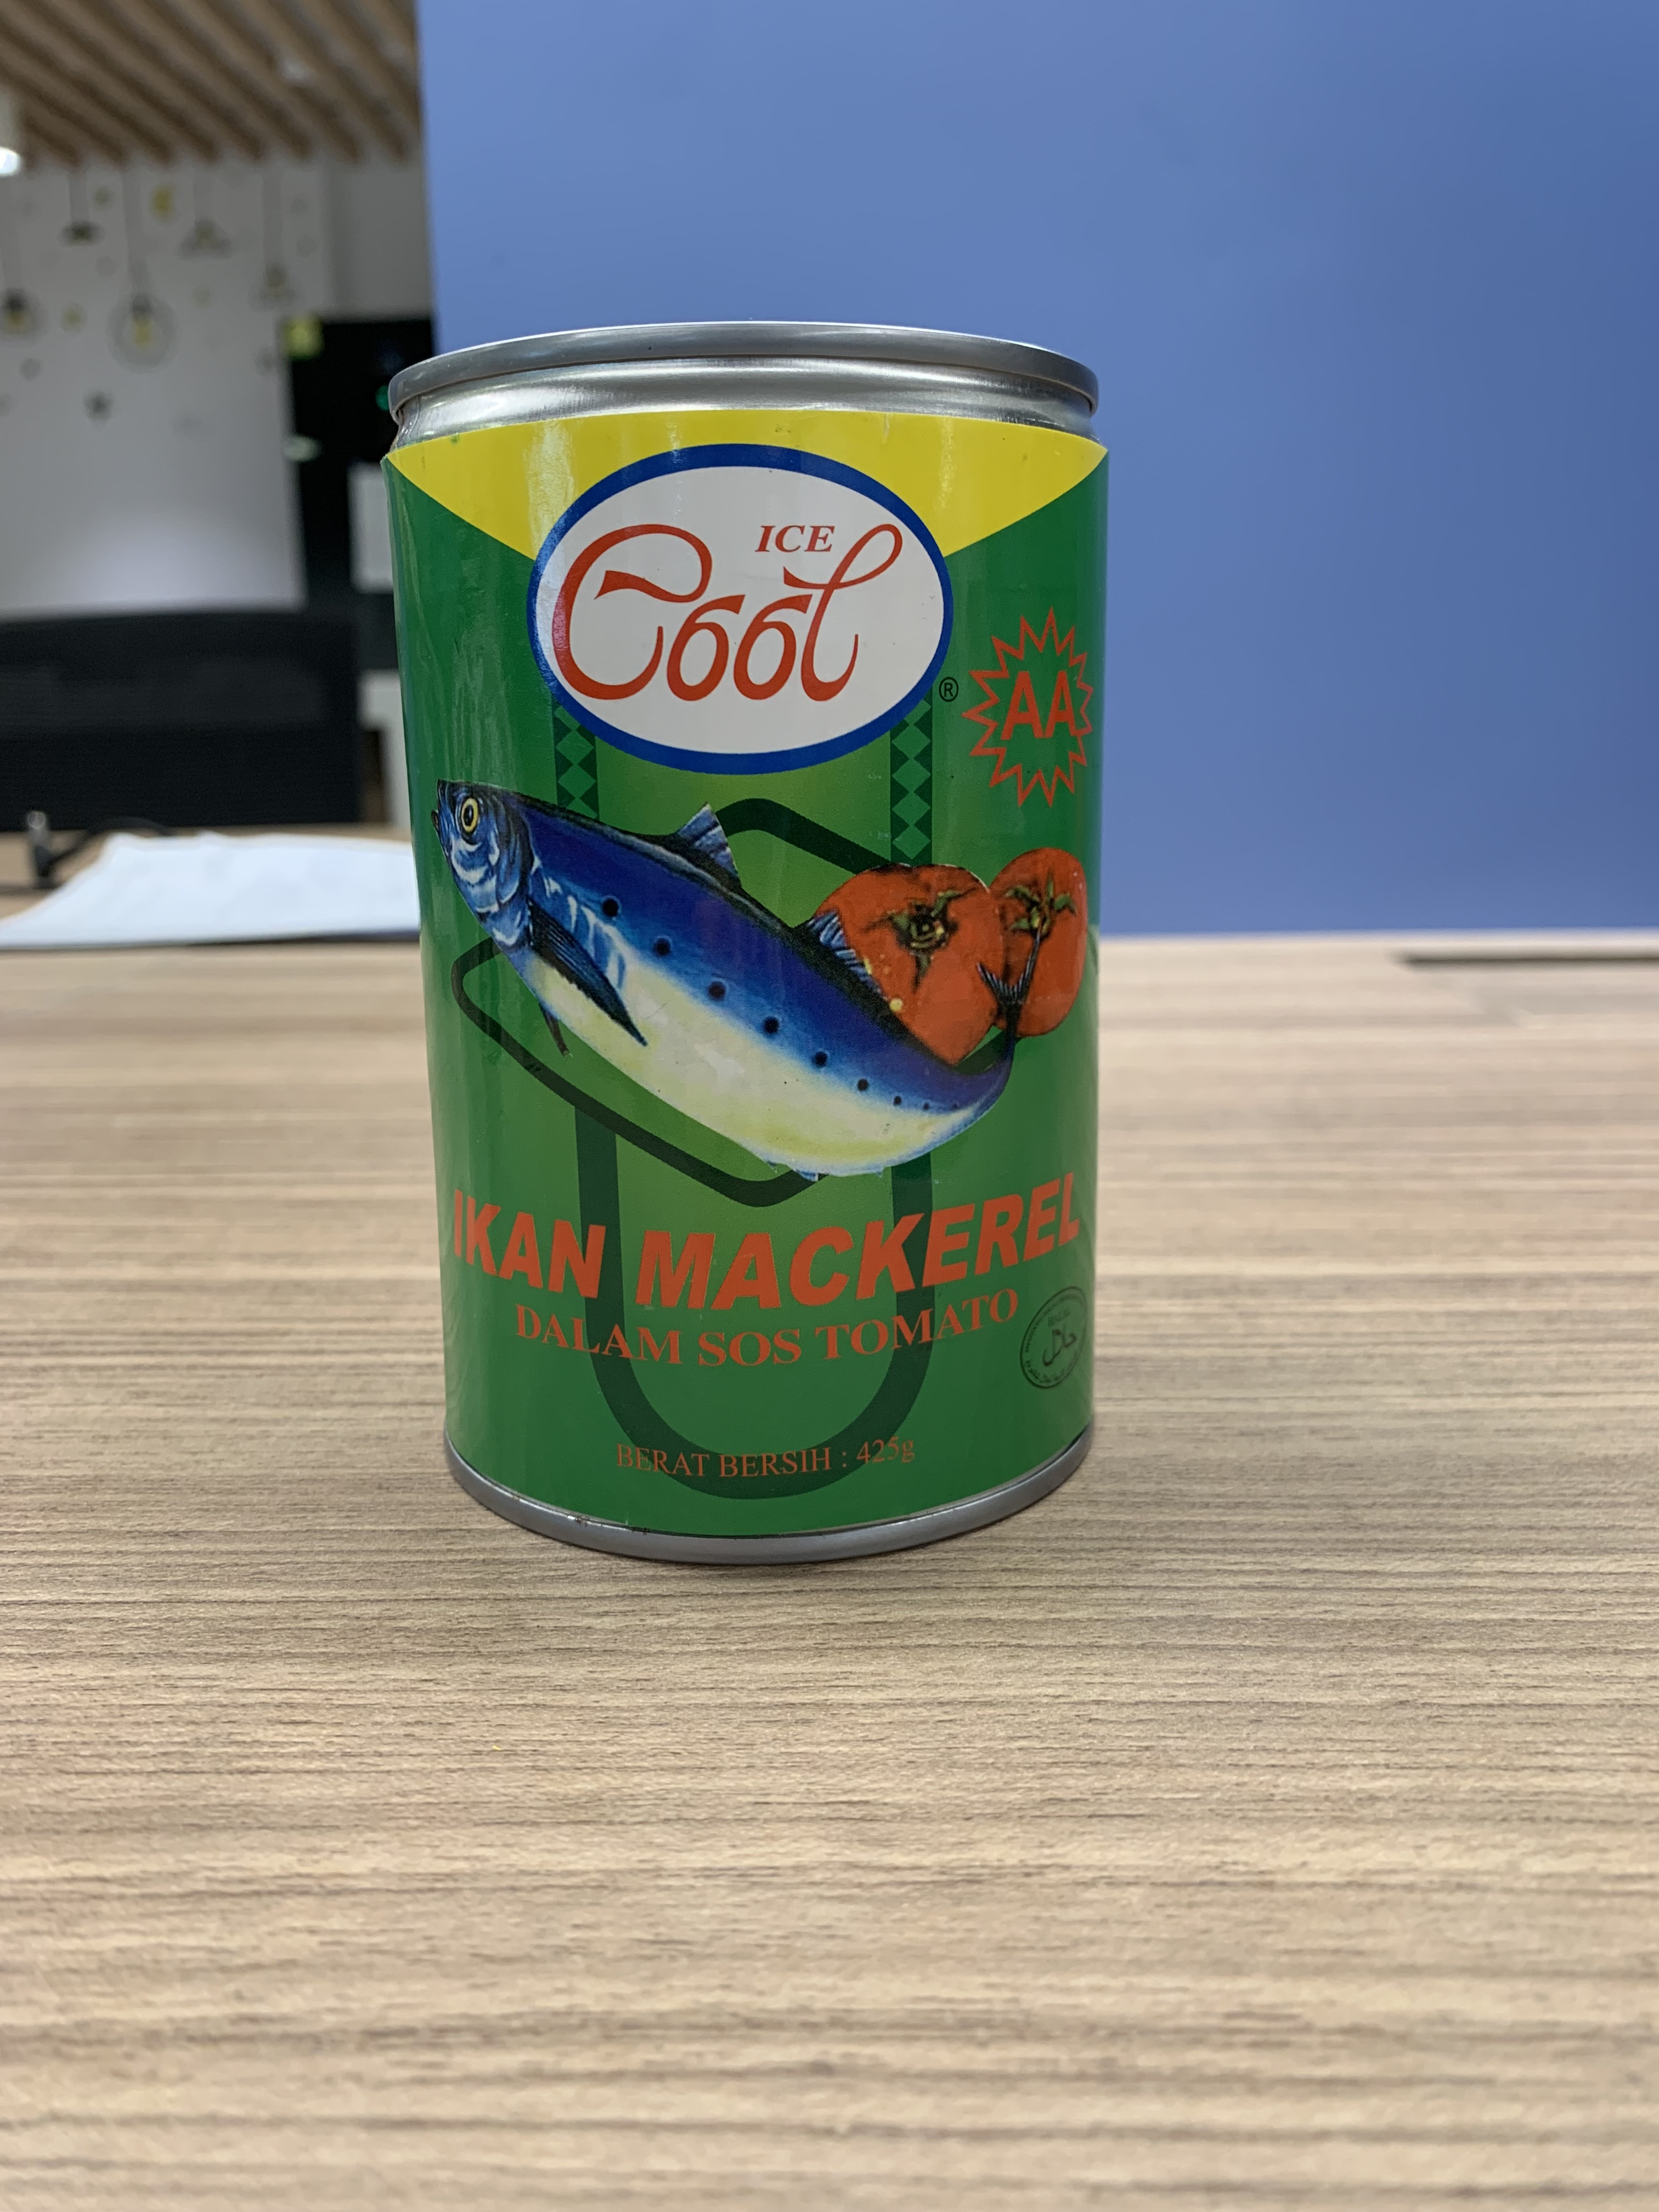sardines_400g-499g: (430, 394, 1098, 1514)
